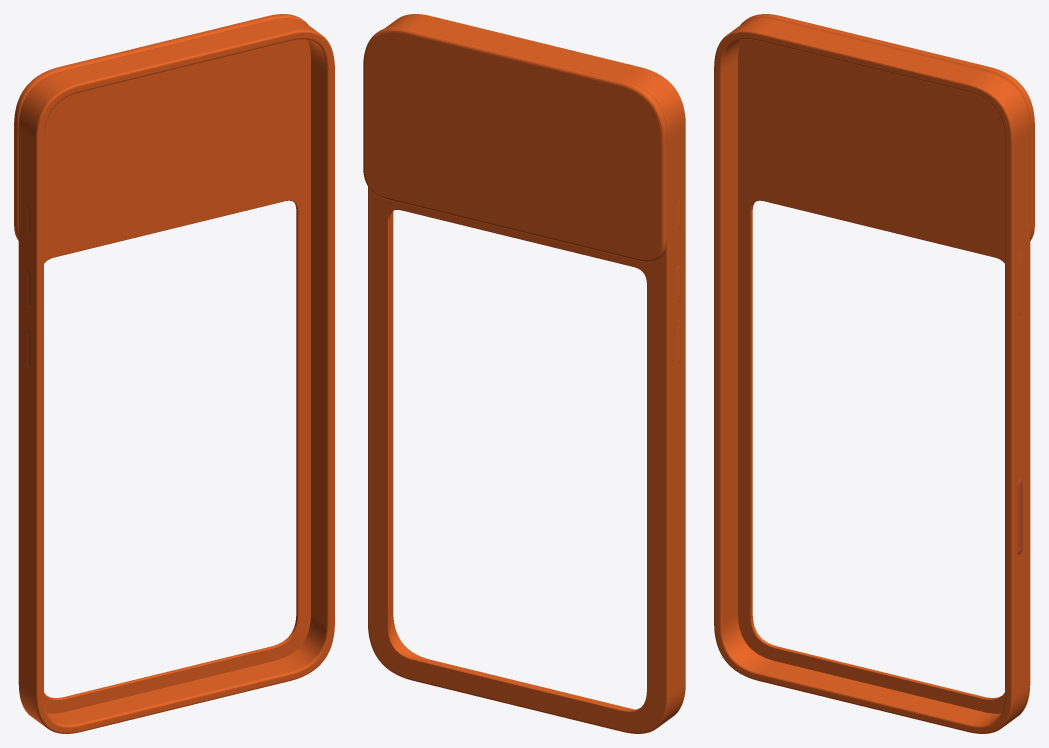
The model's file is frame.glb.
3 renders of one model, left to right at view 1: azimuth 30°, elevation 25°; view 2: azimuth 150°, elevation 25°; view 3: azimuth 330°, elevation 25°, orthographic.
Visible parts, largest first — view 1: frame; view 2: frame; view 3: frame.
Part boxes in pixels (x1,y1,x2,y2): frame: (14, 14, 334, 733); frame: (363, 14, 685, 733); frame: (714, 14, 1034, 733).
Bounding box in the file's own units: 0.4879 × 1.01 × 0.065.
